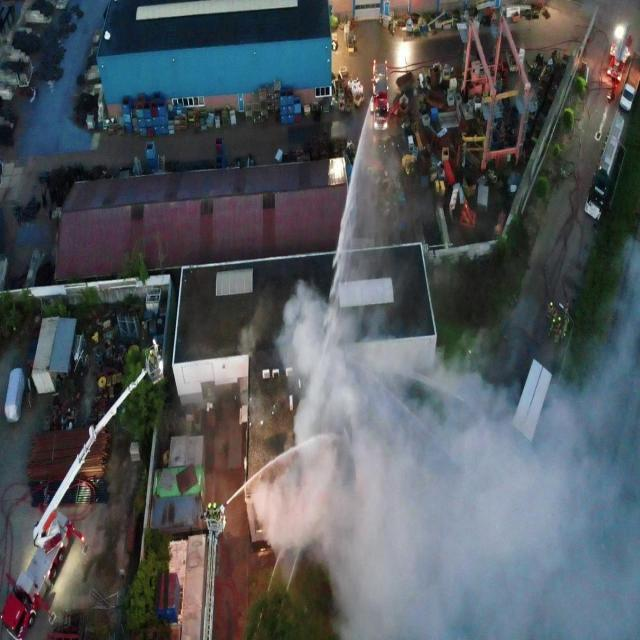Smoke: (236, 236, 640, 640)
